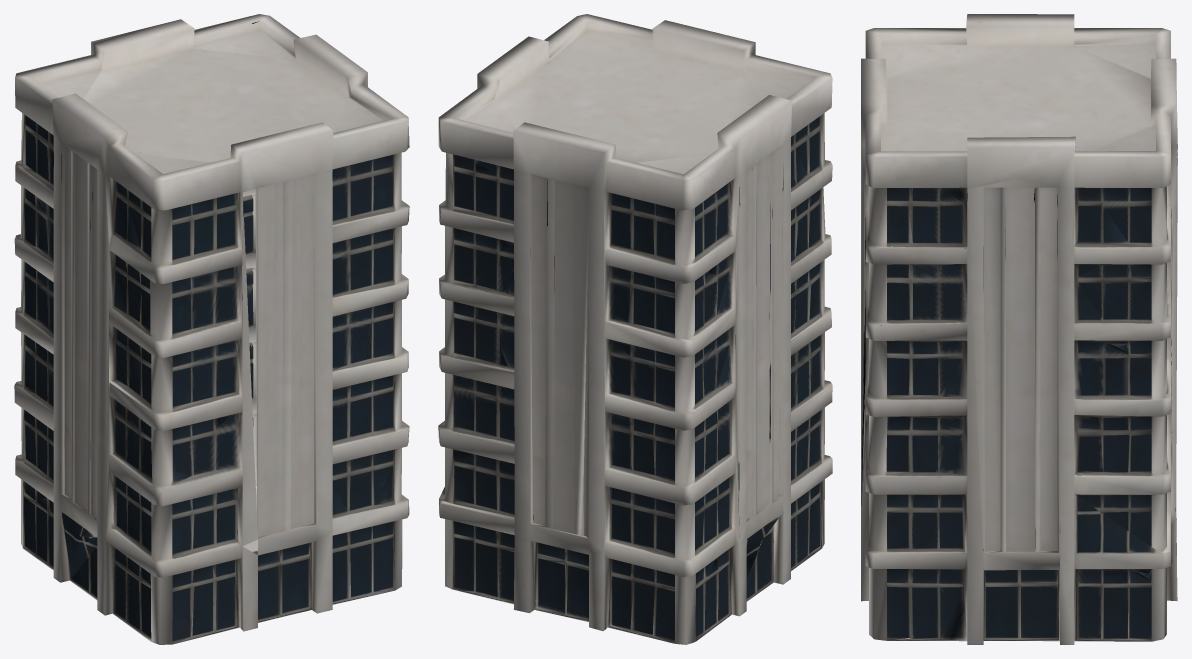
File: 14-office-6-floors.glb
3 views of the same model, side by side, from view 1: azimuth 30°, elevation 25°; view 2: azimuth 150°, elevation 25°; view 3: azimuth 270°, elevation 25° (orthographic). The views are drawn at different scales.
Visible parts, largest first — view 1: geometry_0; view 2: geometry_0; view 3: geometry_0.
Boxes of the visible parts, left/top/right/bottom form: geometry_0: left=14, top=14, right=409, bottom=644; geometry_0: left=438, top=14, right=832, bottom=644; geometry_0: left=861, top=14, right=1177, bottom=644.
Bounding box in the file's own units: 0.5488 × 0.9521 × 0.5493.
1 material, 1 textured.
